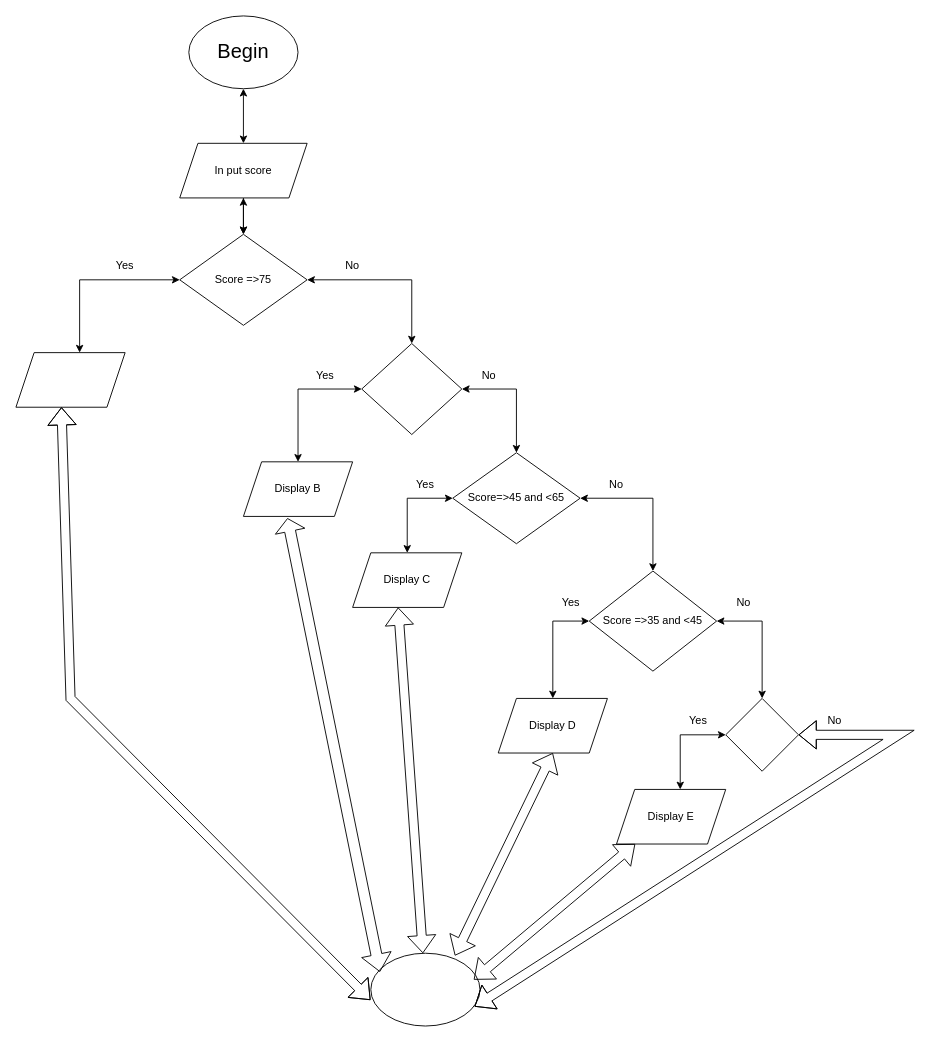
Image size: 931x1042. Some labels were removed from this diagram. The box of each missing label's shape, as (x1, y1, x2, y2) in pixels:
Display A: (15, 352, 125, 407)
End: (370, 952, 480, 1026)
Score =<35: (725, 698, 799, 771)
Score =>65 and <75: (361, 343, 462, 435)
